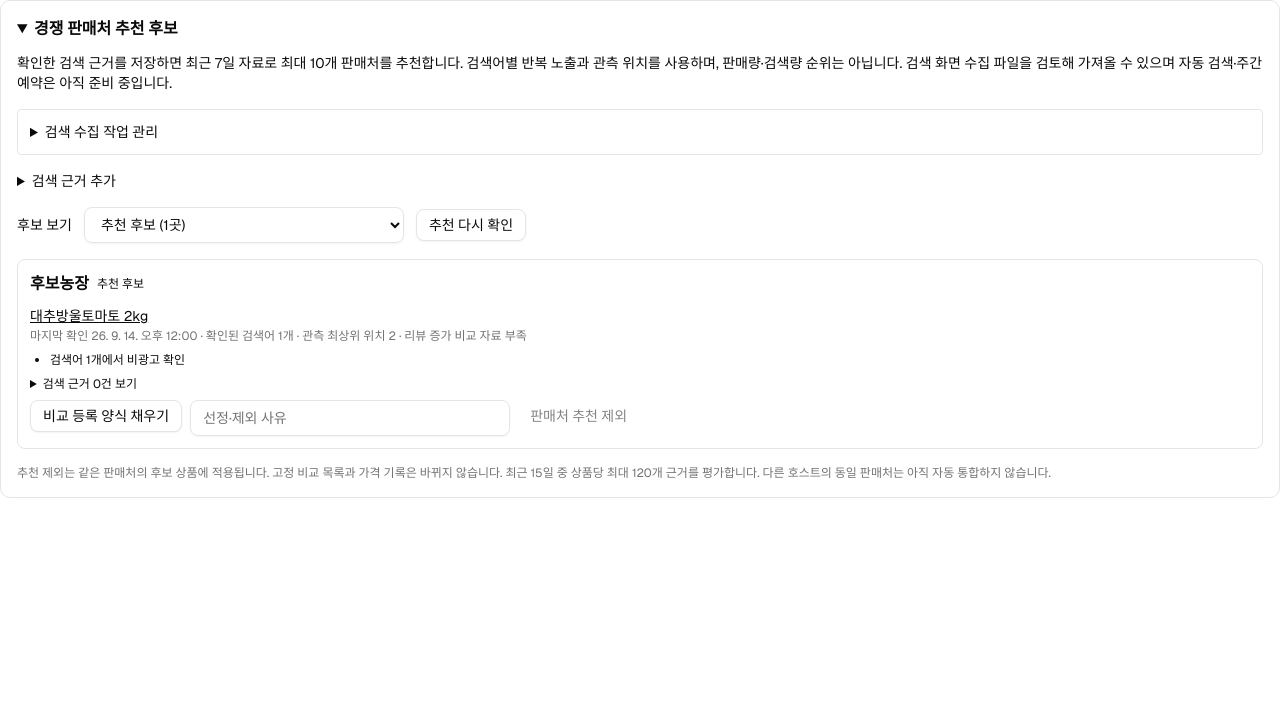
Test: requires a reason before excluding a seller and sends only a decision
Check: the dropdown labelled "후보 보기" is shown, box [84,207,404,243]
Check: the text "후보농장" is shown, box [30,272,89,296]
In the field named "후보농장 선정·제외 사유": (350, 418) [190,400,510,436], type "우리 품종과 다름"
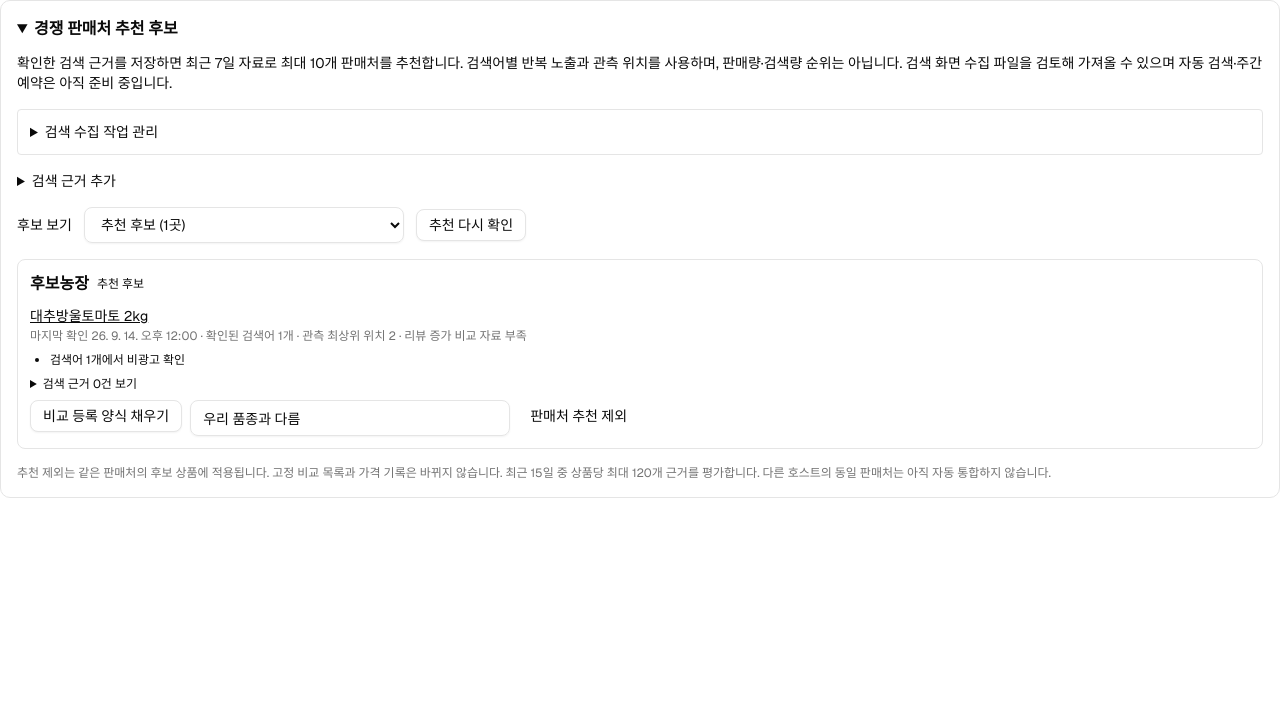
Click the button "판매처 추천 제외": (579, 416) [518,400,639,432]
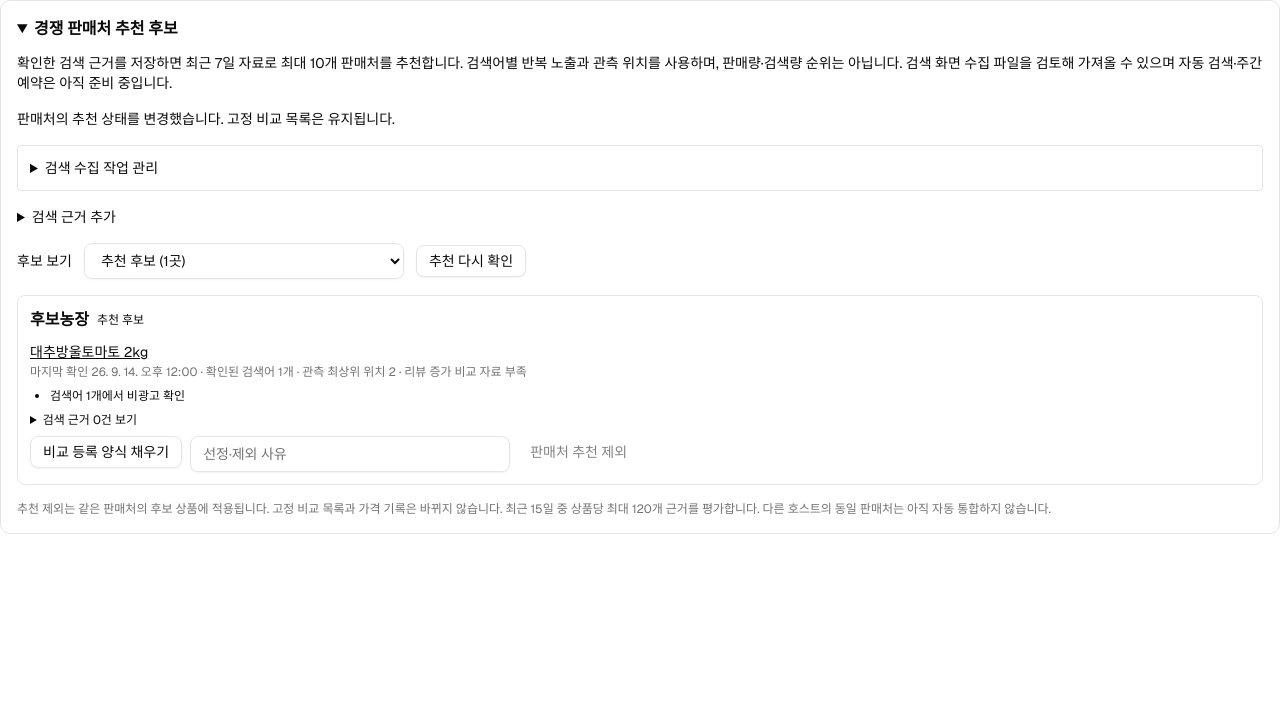
Check: the text "판매처의 추천 상태를 변경했습니다. 고정 비교 목록은 유지됩니다." is shown, box [17,110,395,128]
